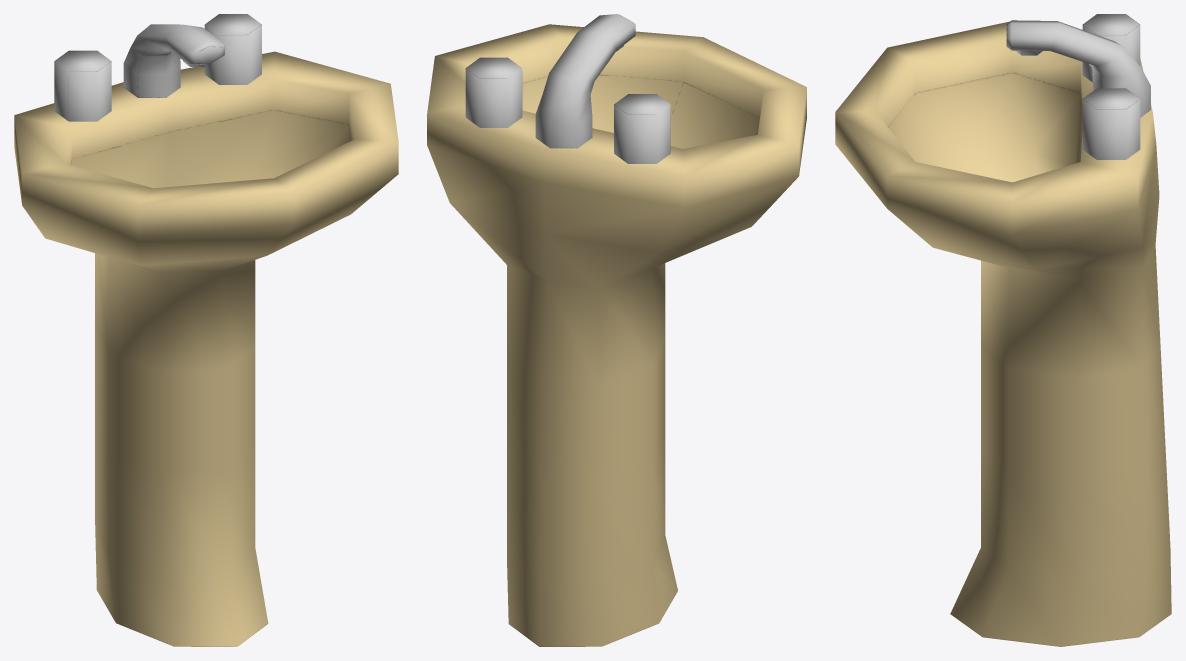
File: Sink.fbx
The picture shows the model from 3 angles, left to right: view 1: azimuth 30°, elevation 25°; view 2: azimuth 150°, elevation 25°; view 3: azimuth 270°, elevation 25°; orthographic projection. The views are drawn at different scales.
Visible parts, largest first — view 1: Pia; view 2: Pia; view 3: Pia.
Boxes of the visible parts, x1,y1,x2,y2 form: Pia: (14, 14, 398, 646); Pia: (427, 14, 806, 646); Pia: (835, 14, 1171, 646).
Bounding box in the file's own units: 1.28 × 1.94 × 1.
1 material, 1 textured.
